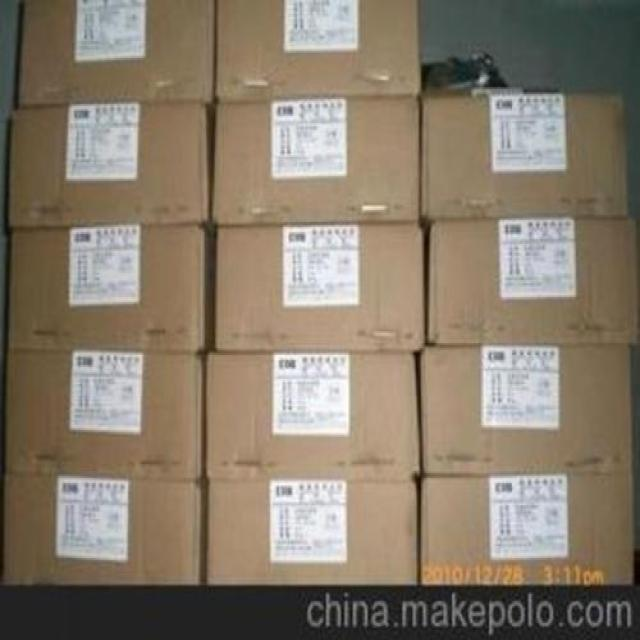box: (420, 345, 634, 476), (214, 222, 428, 353), (212, 94, 420, 227), (206, 352, 421, 480), (428, 218, 636, 346), (420, 92, 628, 218), (5, 350, 206, 480), (8, 104, 215, 230), (8, 227, 215, 352), (420, 474, 635, 585), (204, 478, 419, 589), (1, 478, 202, 587), (18, 0, 216, 108), (215, 0, 421, 101)
